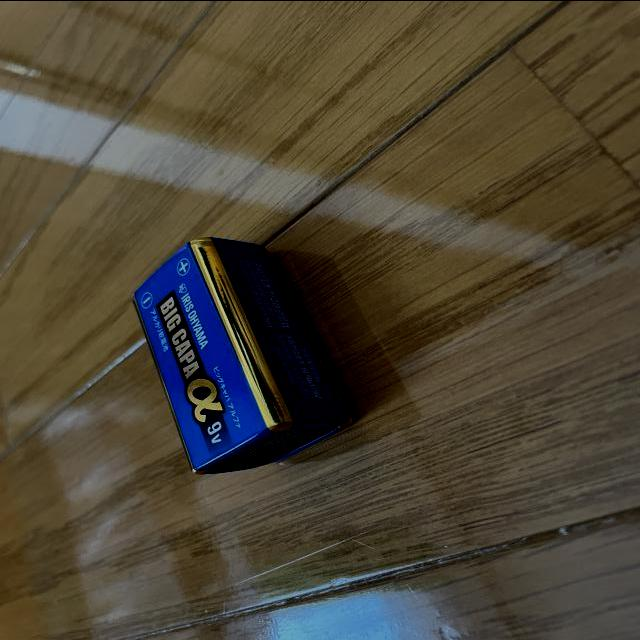9V: (130, 236, 353, 473)
